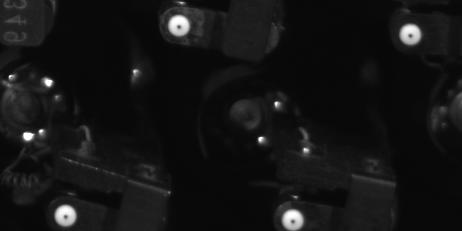fiber: (51, 201, 84, 229), (397, 20, 427, 49), (165, 14, 196, 39), (276, 206, 306, 231)
